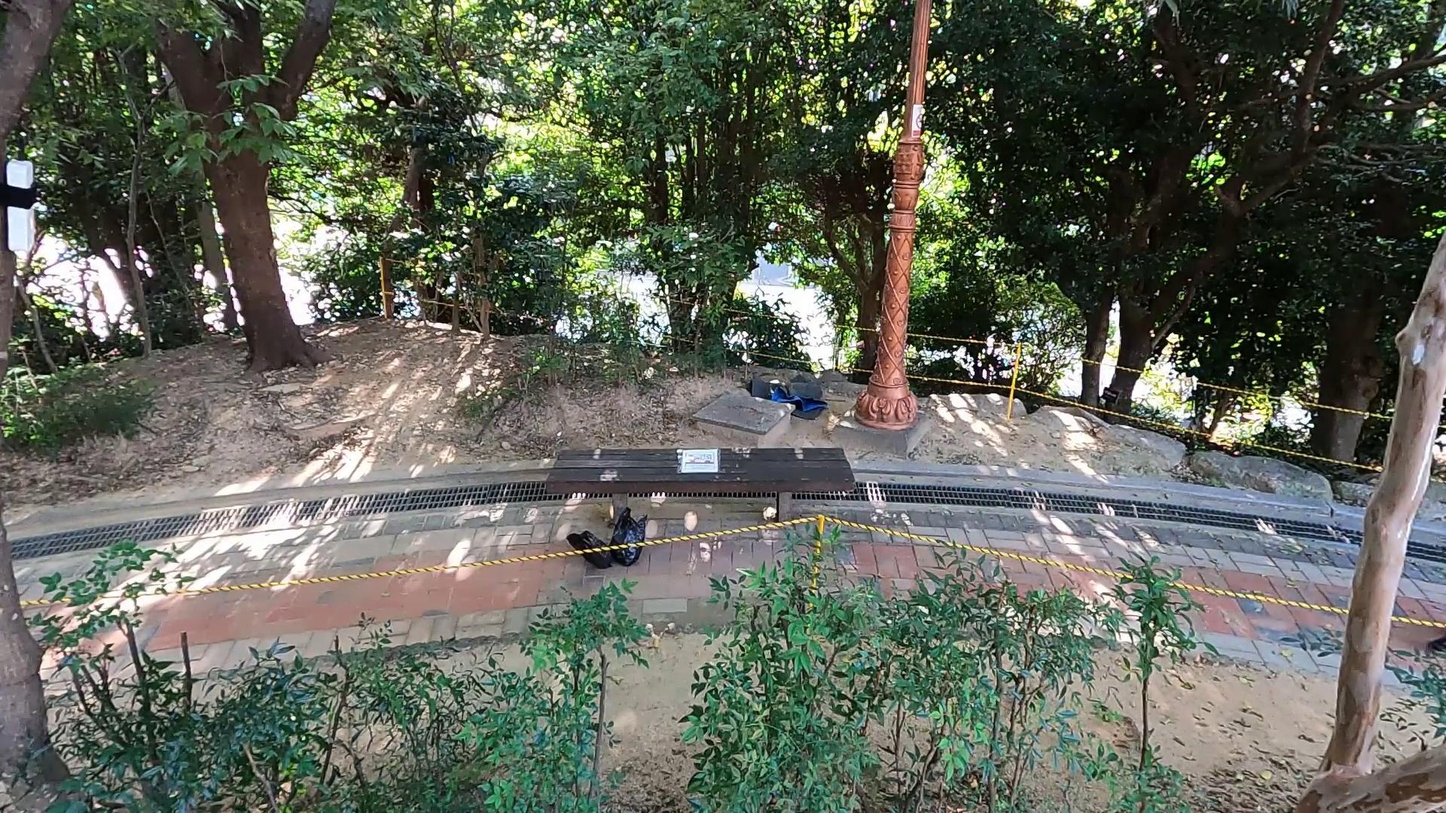trash: (745, 366, 829, 420), (607, 507, 649, 566), (567, 535, 615, 568)
